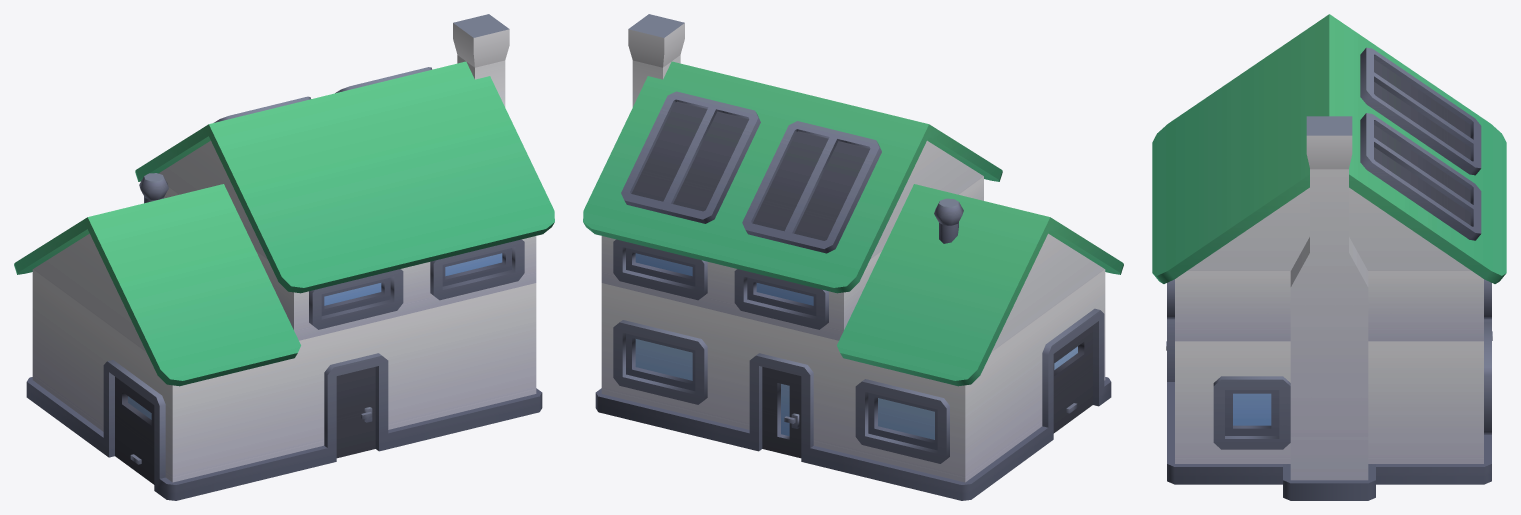
File: house-j.glb
The picture shows the model from 3 angles, left to right: view 1: azimuth 30°, elevation 25°; view 2: azimuth 150°, elevation 25°; view 3: azimuth 270°, elevation 25°; orthographic projection. The views are drawn at different scales.
Parts seen in each view (by area): view 1: building-type-j; view 2: building-type-j; view 3: building-type-j.
Part boxes in pixels (x1,y1,x2,y2): building-type-j: [14, 14, 554, 500]; building-type-j: [583, 14, 1123, 500]; building-type-j: [1152, 14, 1506, 500].
Size of the model in its own units: 1.37 by 1.04 by 0.9161.
1 material, 1 textured.
